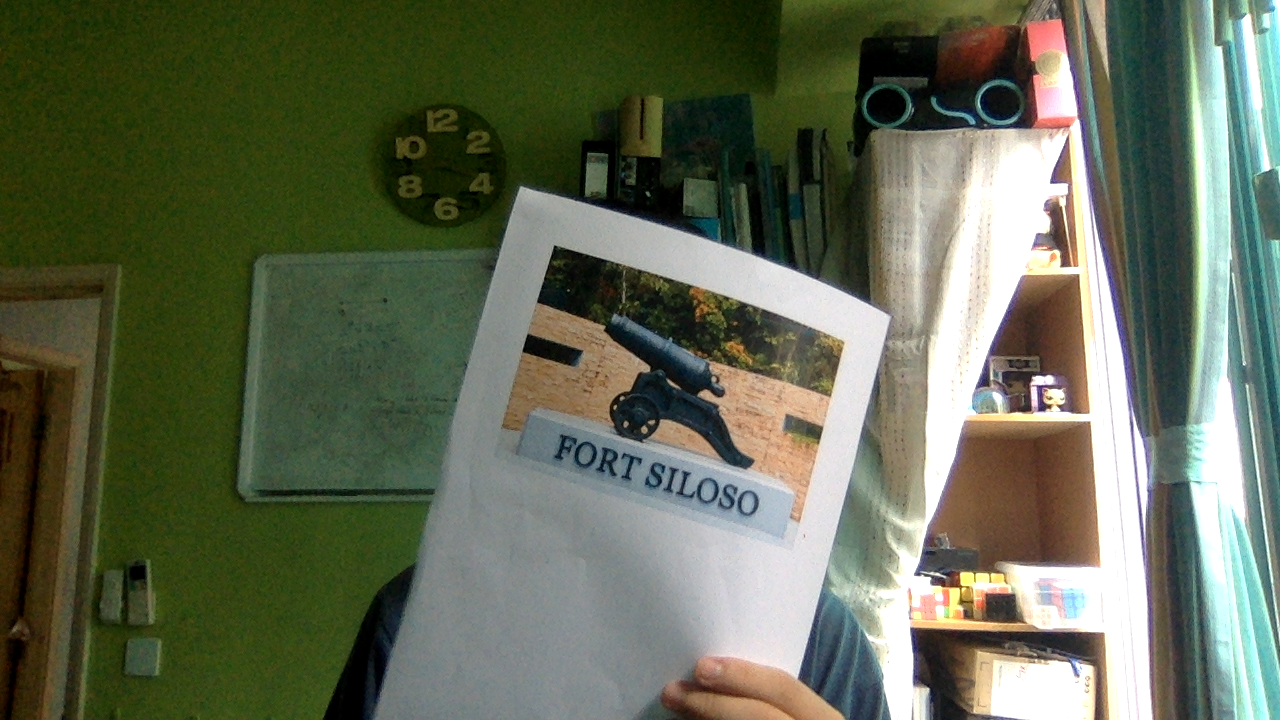siloso: (516, 250, 826, 533)
